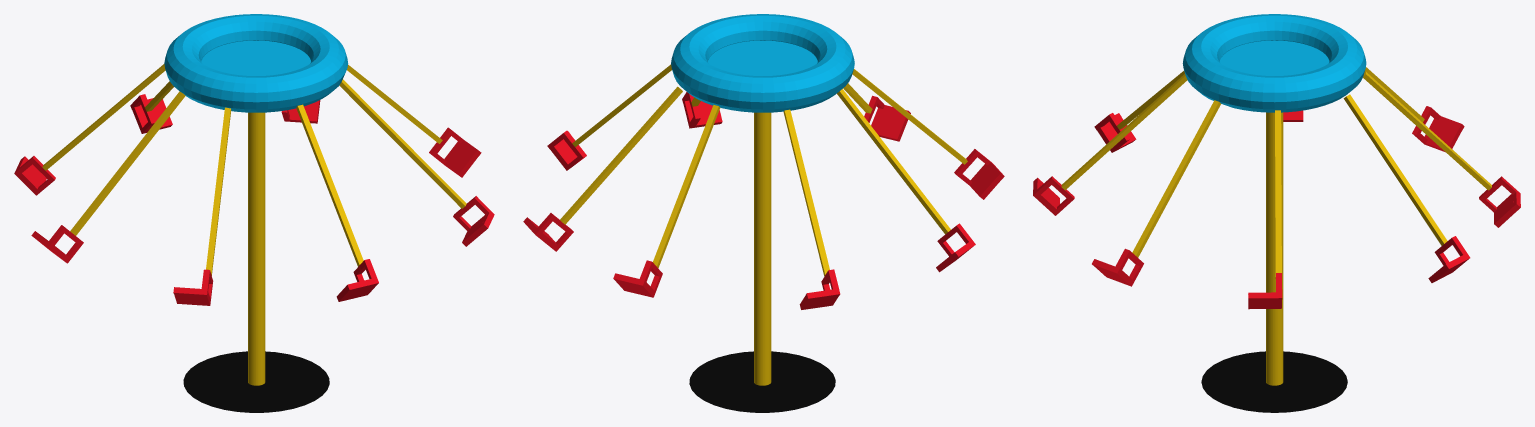
File: swings.fbx
3 renders of one model, left to right at view 1: azimuth 30°, elevation 25°; view 2: azimuth 150°, elevation 25°; view 3: azimuth 270°, elevation 25°, orthographic.
Visible parts, largest first — view 1: Torus; view 2: Torus; view 3: Torus.
Boxes of the visible parts, x1=… form: Torus: x1=14, y1=14, x2=494, y2=412; Torus: x1=523, y1=14, x2=1004, y2=412; Torus: x1=1033, y1=14, x2=1520, y2=412.
Bounding box in the file's own units: 664 × 503 × 664.
